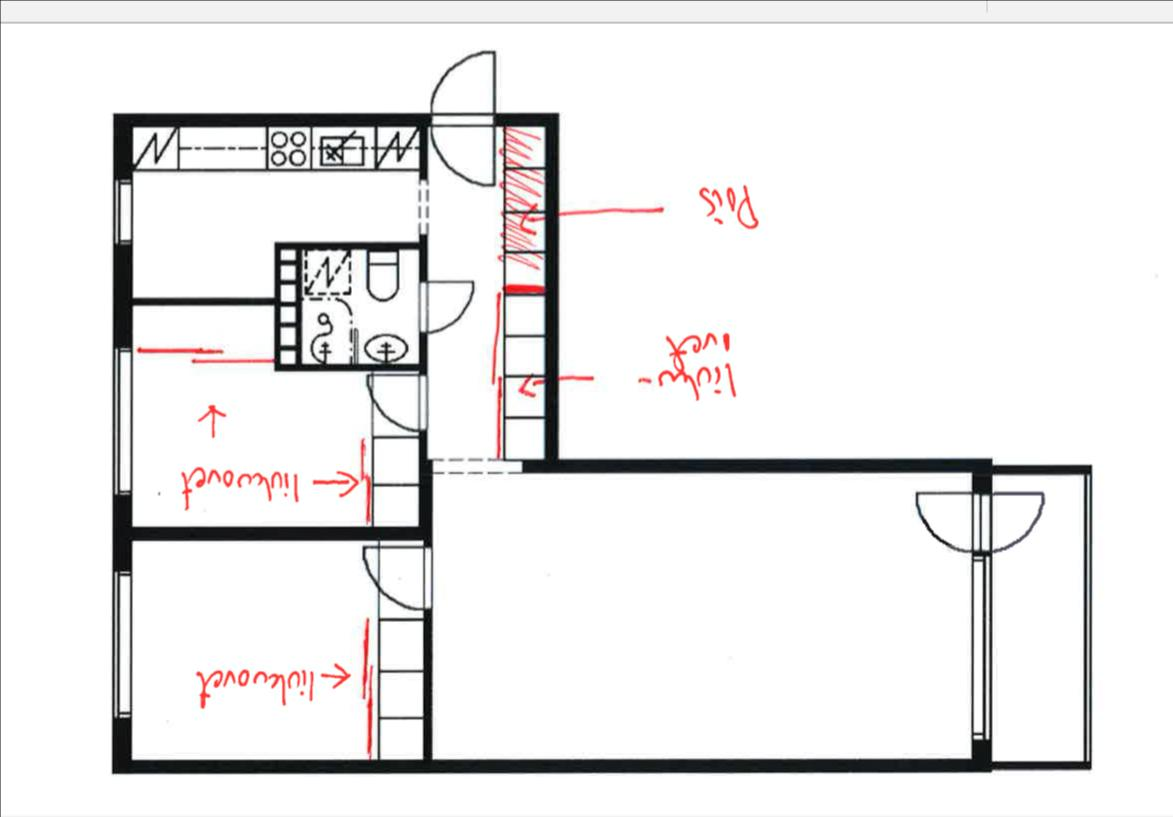door: (911, 483, 994, 559), (357, 542, 439, 617), (426, 114, 499, 191), (428, 44, 498, 124), (969, 492, 1050, 559), (358, 364, 431, 436), (414, 277, 483, 341)
window: (962, 553, 996, 750), (104, 343, 138, 500), (108, 564, 136, 730), (107, 173, 134, 254)
